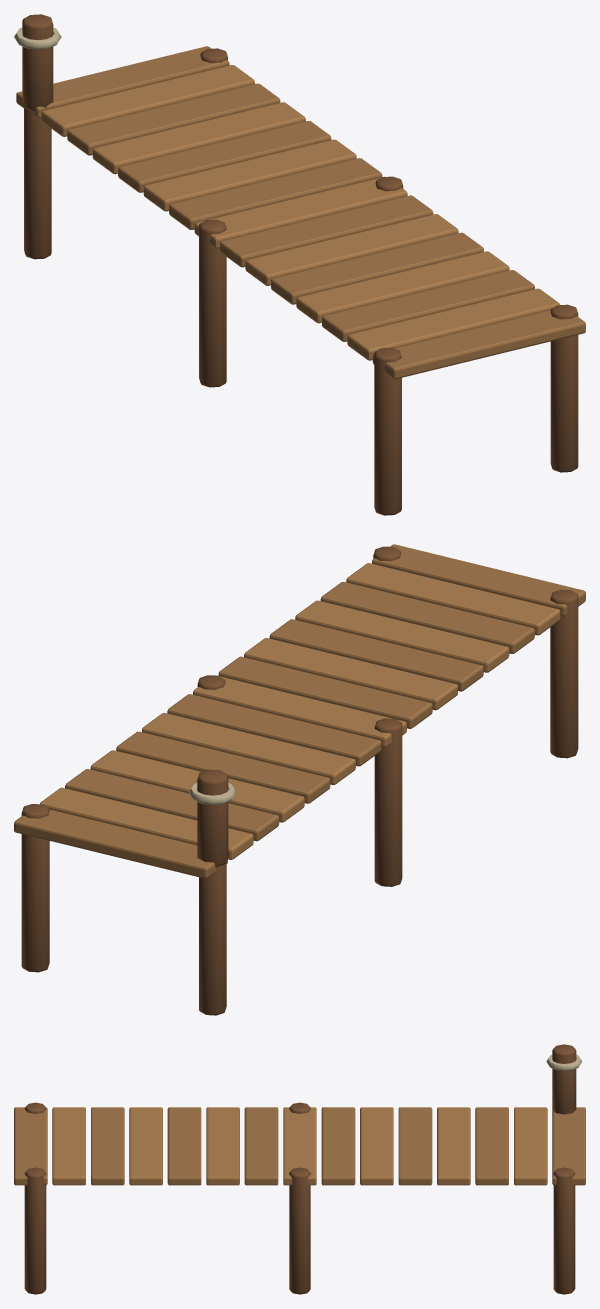
File: dock.fbx
3 views of the same model, one above another, from view 1: azimuth 30°, elevation 25°; view 2: azimuth 150°, elevation 25°; view 3: azimuth 270°, elevation 25° (orthographic). The views are drawn at different scales.
Parts seen in each view (by area): view 1: dock; view 2: dock; view 3: dock.
Boxes of the visible parts, x1=… form: dock: x1=14, y1=14, x2=585, y2=515; dock: x1=14, y1=544, x2=585, y2=1015; dock: x1=14, y1=1044, x2=585, y2=1294.
Size of the model in its own units: 0.76 by 0.815 by 2.38.
